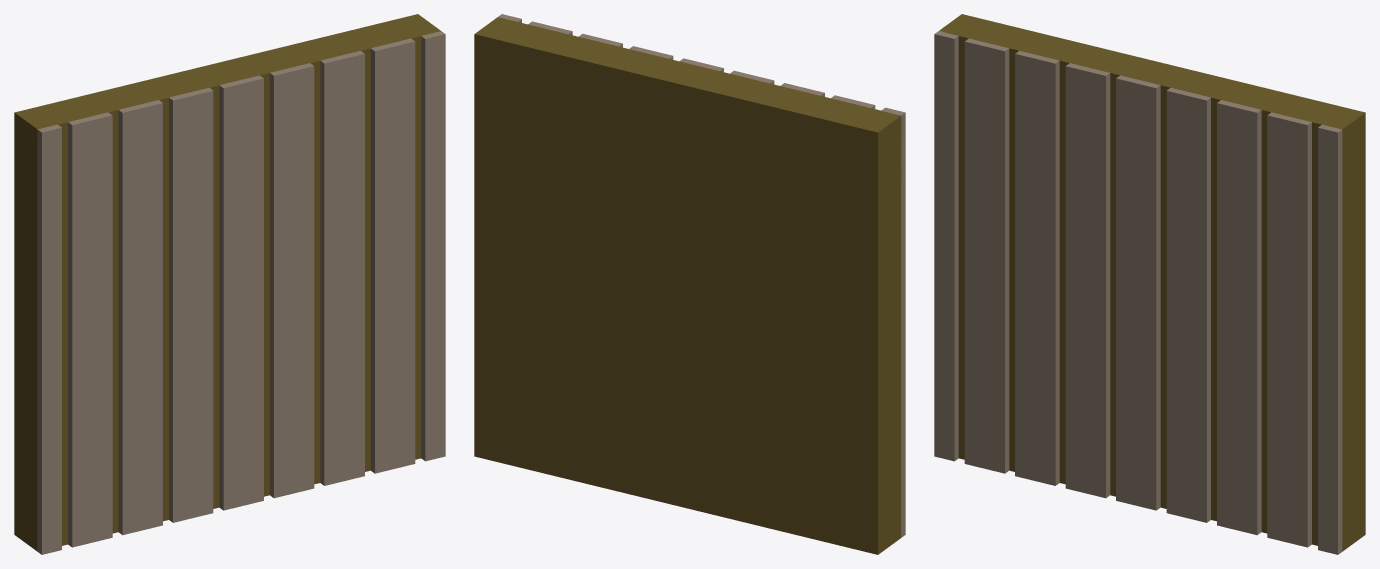
The model's file is WallSegmentVer.fbx.
3 views of the same model, side by side, from view 1: azimuth 30°, elevation 25°; view 2: azimuth 150°, elevation 25°; view 3: azimuth 330°, elevation 25° (orthographic).
Parts seen in each view (by area): view 1: Planks, Wall; view 2: Wall, Planks; view 3: Planks, Wall.
Boxes of the visible parts, x1,y1,x2,y2 form: Planks: (37, 31, 445, 554); Wall: (14, 14, 440, 551); Wall: (474, 17, 901, 554); Planks: (498, 14, 905, 537); Planks: (934, 30, 1342, 554); Wall: (939, 14, 1365, 551).
Size of the model in its own units: 100 by 100 by 11.8.
